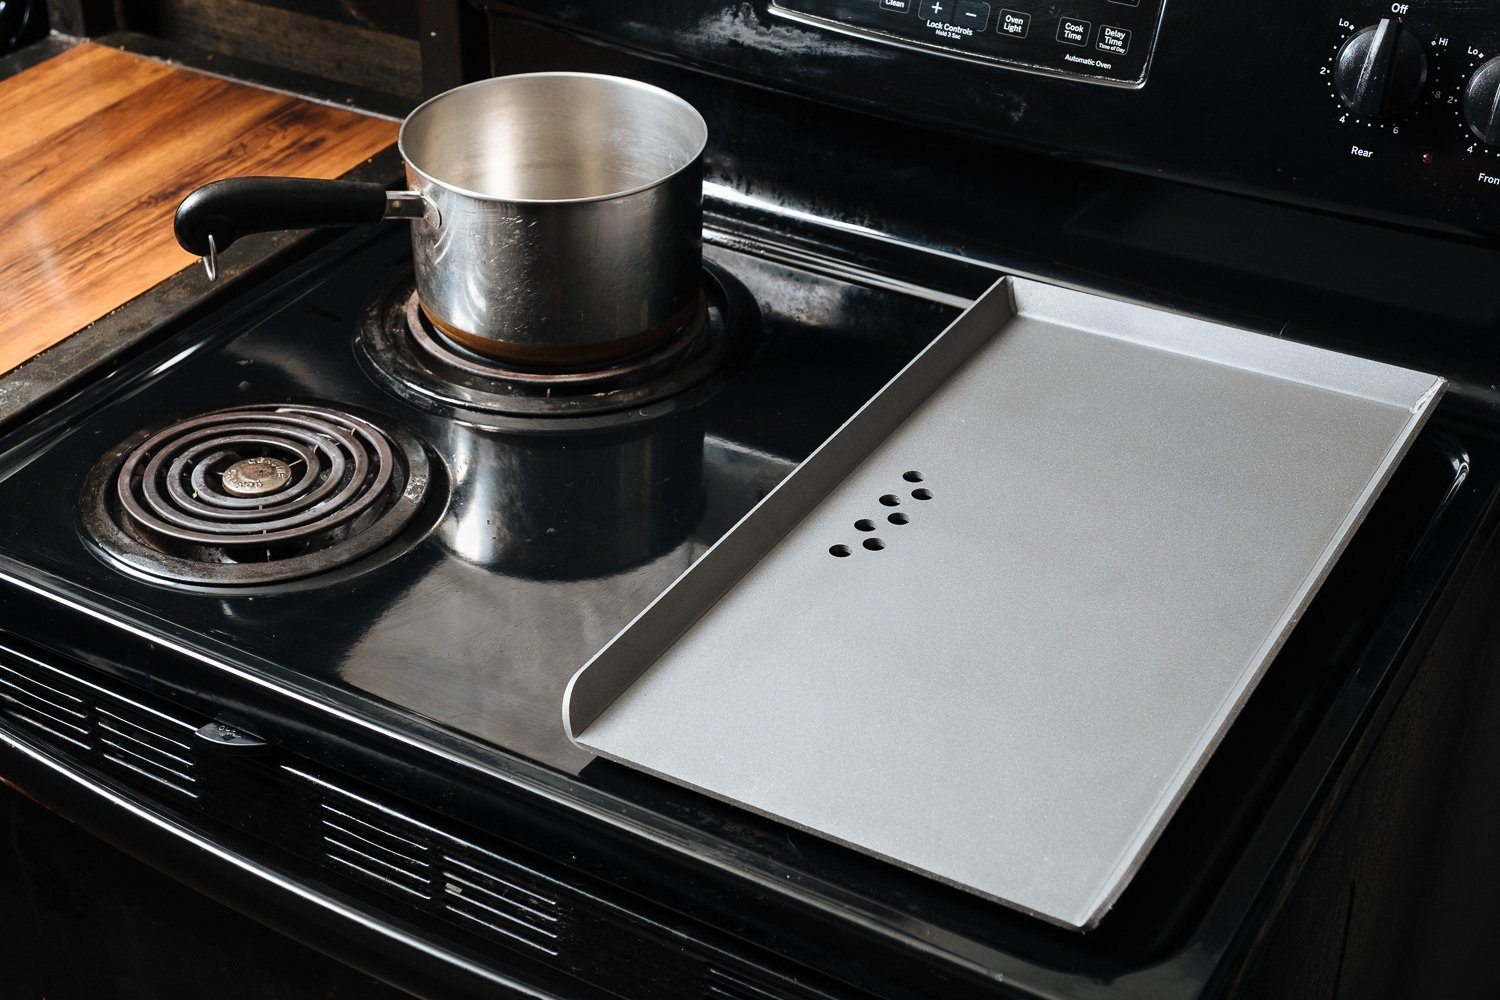stove: (31, 326, 1455, 850)
